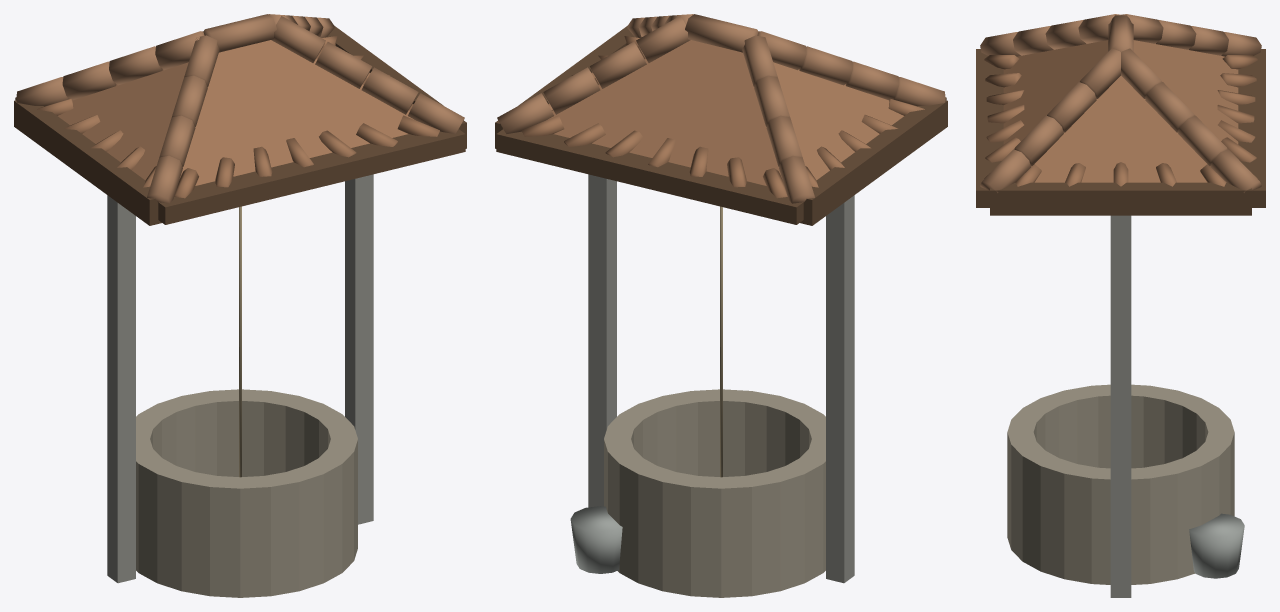
The model's file is courtyard_well.glb.
The picture shows the model from 3 angles, left to right: view 1: azimuth 30°, elevation 25°; view 2: azimuth 150°, elevation 25°; view 3: azimuth 270°, elevation 25°; orthographic projection. The views are drawn at different scales.
Parts seen in each view (by area): view 1: courtyard_well; view 2: courtyard_well; view 3: courtyard_well.
Boxes of the visible parts, x1,y1,x2,y2 form: courtyard_well: [14, 14, 466, 597]; courtyard_well: [495, 14, 947, 597]; courtyard_well: [976, 14, 1265, 597].
Size of the model in its own units: 2.43 by 3.84 by 1.99.
